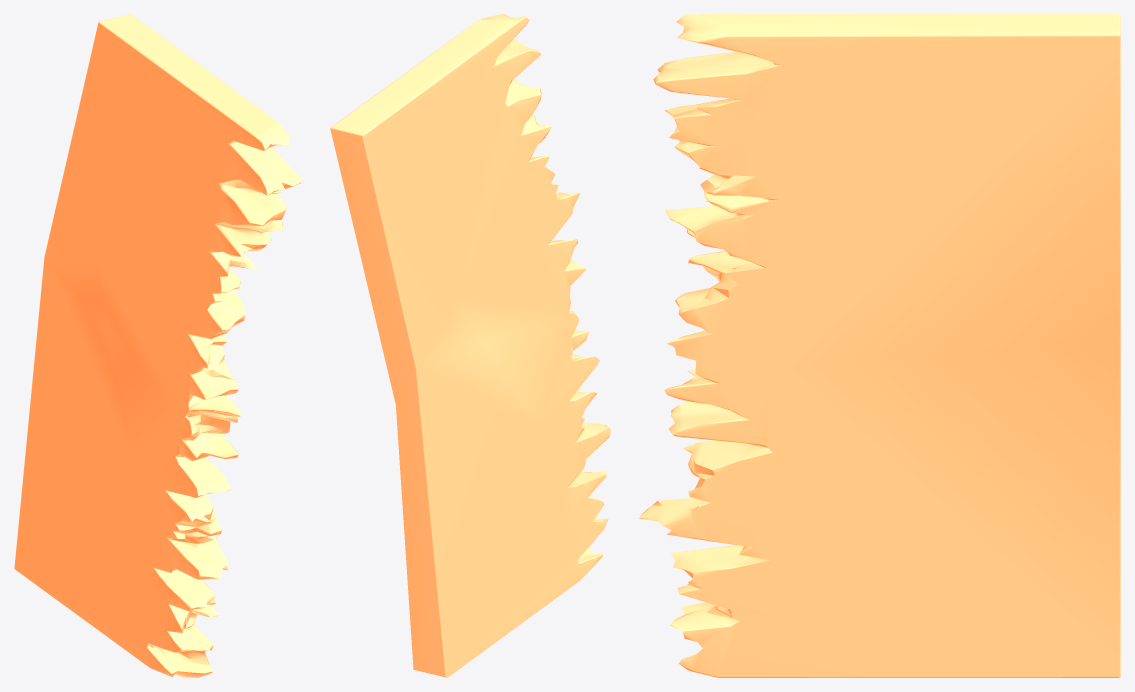
File: SM_Wall_CannonBow03.fbx
The picture shows the model from 3 angles, left to right: view 1: azimuth 30°, elevation 25°; view 2: azimuth 150°, elevation 25°; view 3: azimuth 270°, elevation 25°; orthographic projection. The views are drawn at different scales.
Parts seen in each view (by area): view 1: SM_Wall_CannonBow03_LOD0; view 2: SM_Wall_CannonBow03_LOD0; view 3: SM_Wall_CannonBow03_LOD0.
Part boxes in pixels (x1,y1,x2,y2): SM_Wall_CannonBow03_LOD0: (14,14,301,677); SM_Wall_CannonBow03_LOD0: (330,14,610,677); SM_Wall_CannonBow03_LOD0: (639,14,1120,677).
Size of the model in its own units: 70.05 by 188 by 300.
